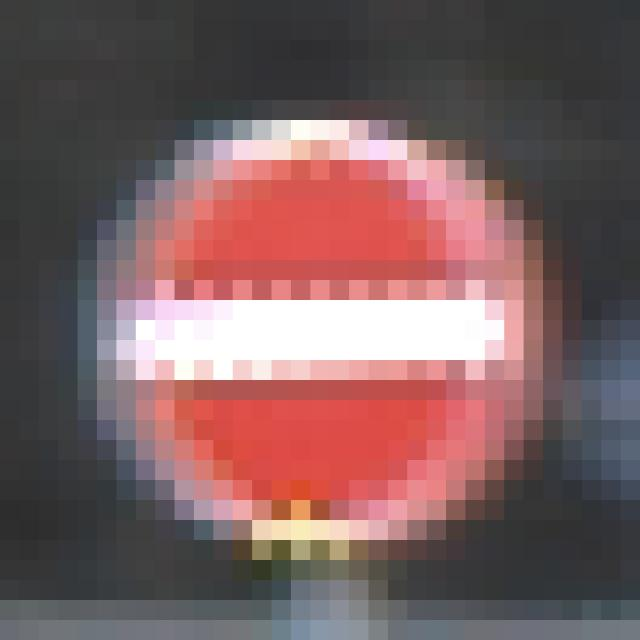No Entry: (98, 101, 544, 541)
